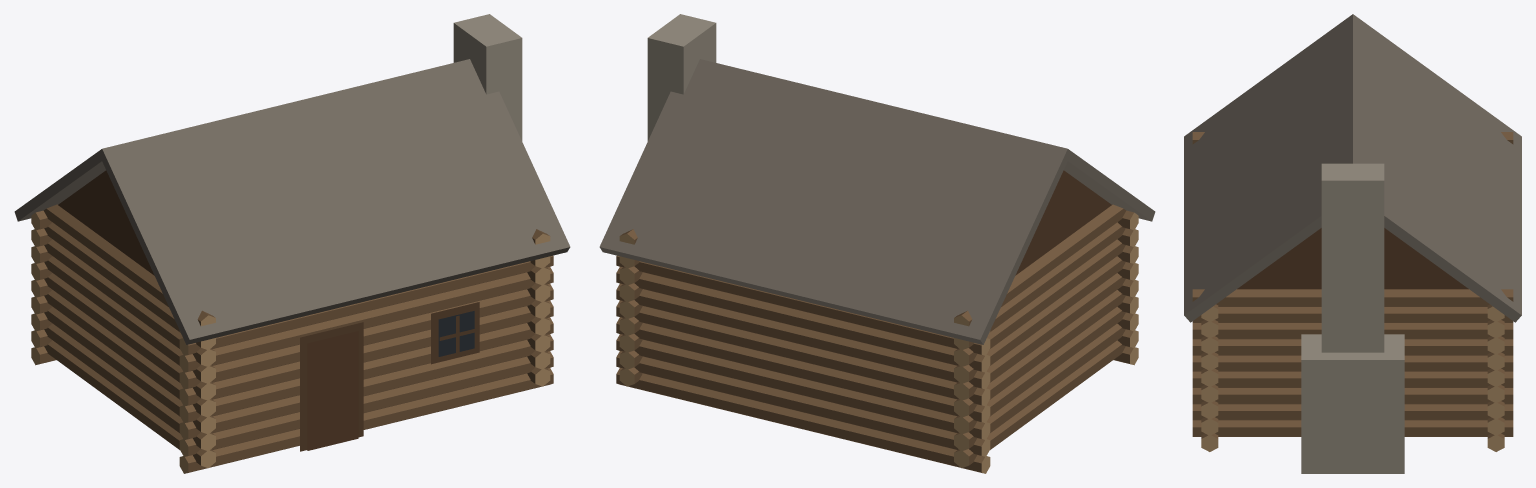
Rendered from log_cabin.glb.
3 views of the same model, side by side, from view 1: azimuth 30°, elevation 25°; view 2: azimuth 150°, elevation 25°; view 3: azimuth 270°, elevation 25° (orthographic). The views are drawn at different scales.
Parts seen in each view (by area): view 1: log_cabin; view 2: log_cabin; view 3: log_cabin.
Boxes of the visible parts, x1,y1,x2,y2 form: log_cabin: [14, 14, 570, 473]; log_cabin: [599, 14, 1155, 473]; log_cabin: [1184, 14, 1521, 473].
Bounding box in the file's own units: 8.15 × 5.52 × 5.9.
